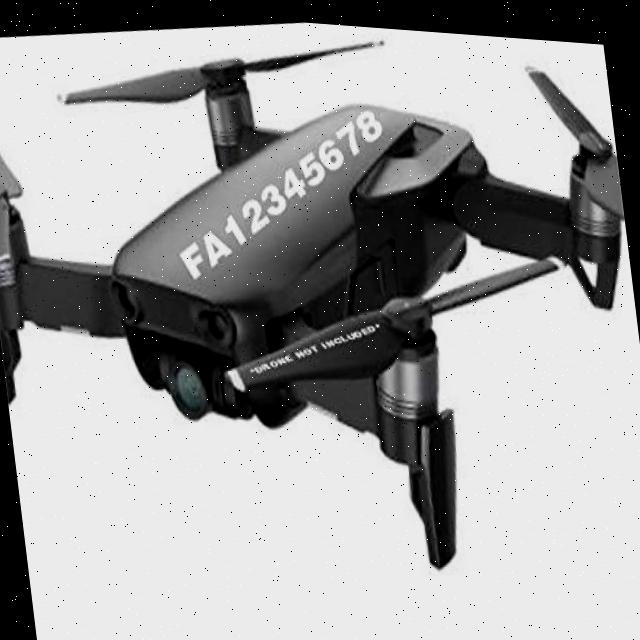drone: (0, 0, 640, 634)
